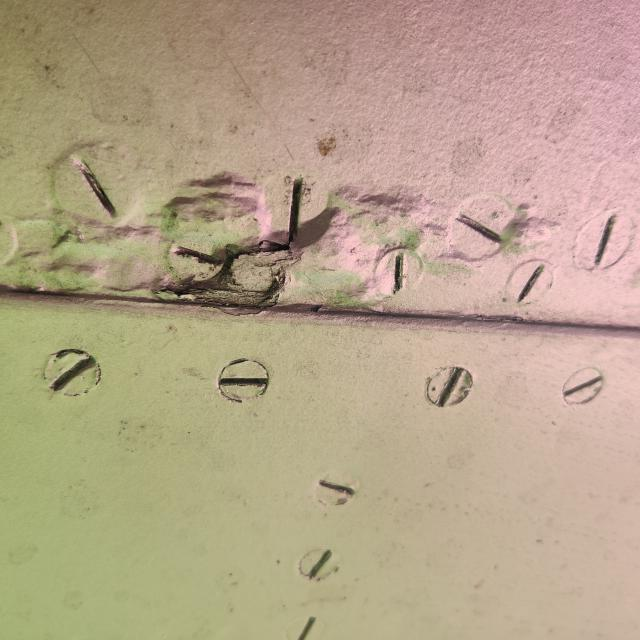paint-off: (132, 162, 358, 339)
